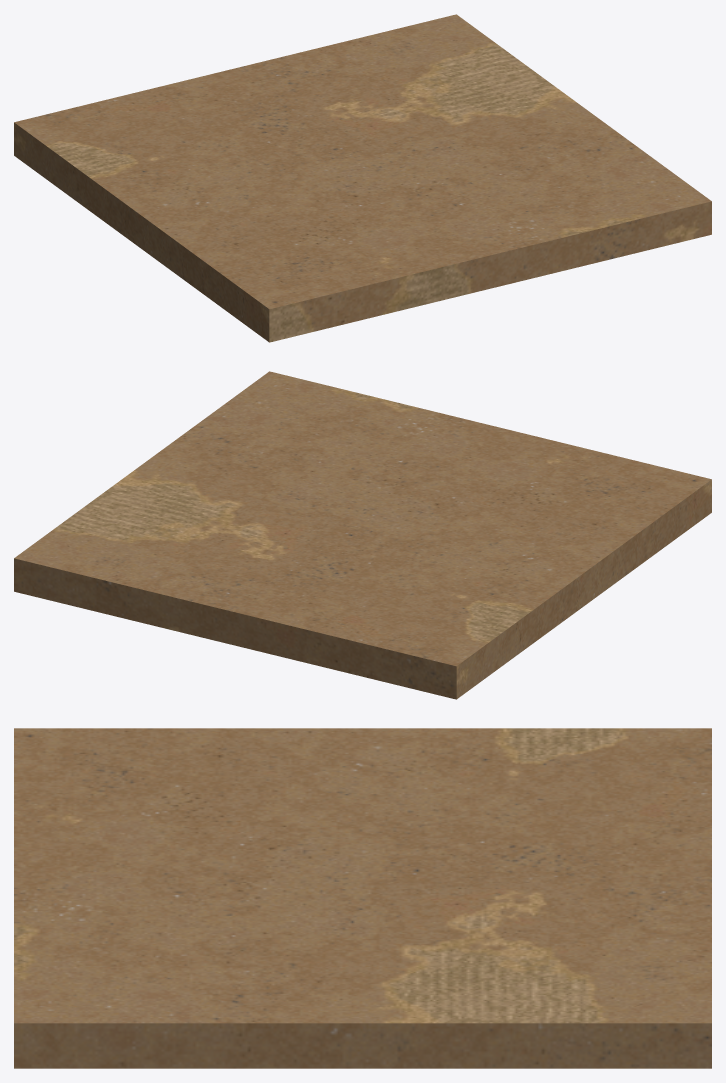
Rendered from Box_cap.fbx.
3 views of the same model, one above another, from view 1: azimuth 30°, elevation 25°; view 2: azimuth 150°, elevation 25°; view 3: azimuth 270°, elevation 25° (orthographic). The views are drawn at different scales.
Parts seen in each view (by area): view 1: box_cap; view 2: box_cap; view 3: box_cap.
Part boxes in pixels (x1,y1,x2,y2): box_cap: (14, 14, 711, 342); box_cap: (14, 371, 711, 699); box_cap: (14, 728, 711, 1068).
Size of the model in its own units: 139 by 10 by 139.
1 material, 1 textured.
